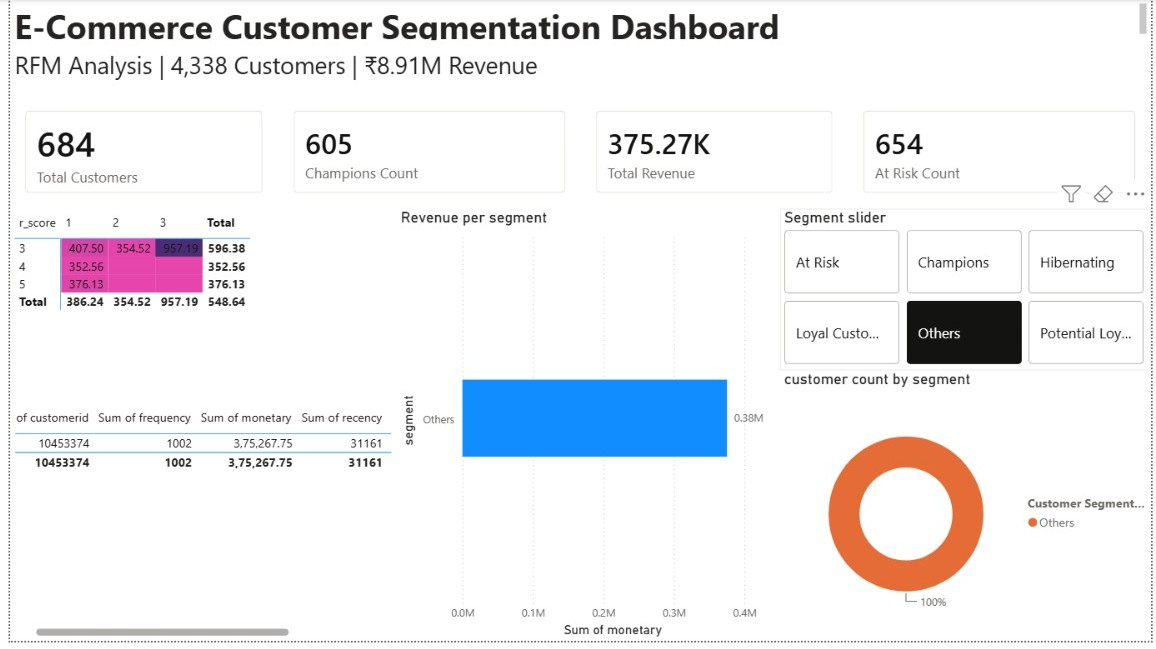

This screenshot's page, from the dashboard's own definition file:
{"tool":"powerbi","page":{"name":"Page 1","canvas":[1280,720],"ordinal":0},"visuals":[{"type":"cardVisual","fields":{"Data":["Count(powerbi_rfm.customerid)"]},"box":[0,108.2,300.9,126.8],"z":0},{"type":"cardVisual","fields":{"Data":["Sum(powerbi_rfm.monetary)"]},"box":[640.7,108.2,299.2,126.8],"z":1000},{"type":"cardVisual","fields":{"Data":["powerbi_rfm.Champions Count"]},"box":[300.9,108.2,339.8,126.8],"z":2000},{"type":"donutChart","title":"customer count by segment","fields":{"Category":["powerbi_rfm.segment"],"Y":["Count(powerbi_rfm.customerid)"]},"box":[863.9,415.9,415.9,304.3],"z":3000},{"type":"clusteredBarChart","title":"Revenue per segment","fields":{"Category":["powerbi_rfm.segment"],"Y":["Sum(powerbi_rfm.monetary)"]},"box":[432.8,235,431.1,485.2],"z":4000},{"type":"cardVisual","fields":{"Data":["powerbi_rfm.At Risk Count"]},"box":[939.9,108.2,339.8,126.8],"z":5000},{"type":"textbox","box":[0,0,1279.7,50.7],"z":6000},{"type":"textbox","box":[0,50.7,1279.7,57.5],"z":7000},{"type":"pivotTable","fields":{"Rows":["powerbi_rfm.r_score"],"Columns":["powerbi_rfm.f_score"],"Values":["Avg(powerbi_rfm.monetary)"]},"box":[0,235,432.8,219.8],"z":8000},{"type":"tableEx","fields":{"Values":["Sum(powerbi_rfm.customerid)","Sum(powerbi_rfm.frequency)","Sum(powerbi_rfm.monetary)","Sum(powerbi_rfm.recency)","Sum(powerbi_rfm.rfm_score)","powerbi_rfm.segment"]},"box":[0,454.8,432.8,265.4],"z":9000},{"type":"advancedSlicerVisual","title":"Segment slider","fields":{"Values":["powerbi_rfm.segment"]},"box":[863.9,235,415.9,180.9],"z":10000}]}

Visuals, with their boxes in screenshot pixels (x1, y1, x2, y2), scaled from the page's 1280x720 canvas onto the 1156x649 screenshot:
cardVisual - Count(powerbi_rfm.customerid): {"left": 0, "top": 98, "right": 272, "bottom": 212}
cardVisual - Sum(powerbi_rfm.monetary): {"left": 579, "top": 98, "right": 849, "bottom": 212}
cardVisual - powerbi_rfm.Champions Count: {"left": 272, "top": 98, "right": 579, "bottom": 212}
"customer count by segment" donutChart: {"left": 780, "top": 375, "right": 1155, "bottom": 648}
"Revenue per segment" clusteredBarChart: {"left": 391, "top": 212, "right": 780, "bottom": 648}
cardVisual - powerbi_rfm.At Risk Count: {"left": 849, "top": 98, "right": 1155, "bottom": 212}
textbox: {"left": 0, "top": 0, "right": 1155, "bottom": 46}
textbox: {"left": 0, "top": 46, "right": 1155, "bottom": 98}
pivotTable - powerbi_rfm.r_score x powerbi_rfm.f_score: {"left": 0, "top": 212, "right": 391, "bottom": 410}
tableEx - Sum(powerbi_rfm.customerid) x Sum(powerbi_rfm.frequency): {"left": 0, "top": 410, "right": 391, "bottom": 648}
"Segment slider" advancedSlicerVisual: {"left": 780, "top": 212, "right": 1155, "bottom": 375}
